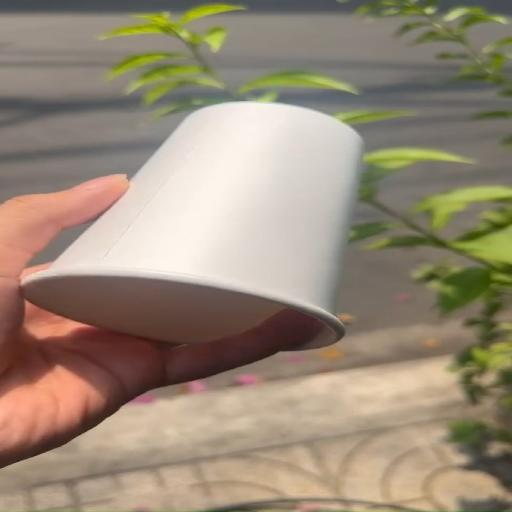Ly_giay: (22, 101, 362, 348)
